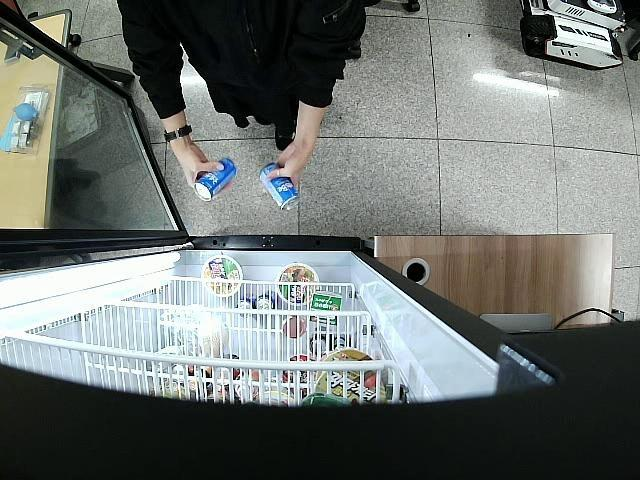15_letsbe: (258, 162, 300, 213), (196, 158, 236, 200)
